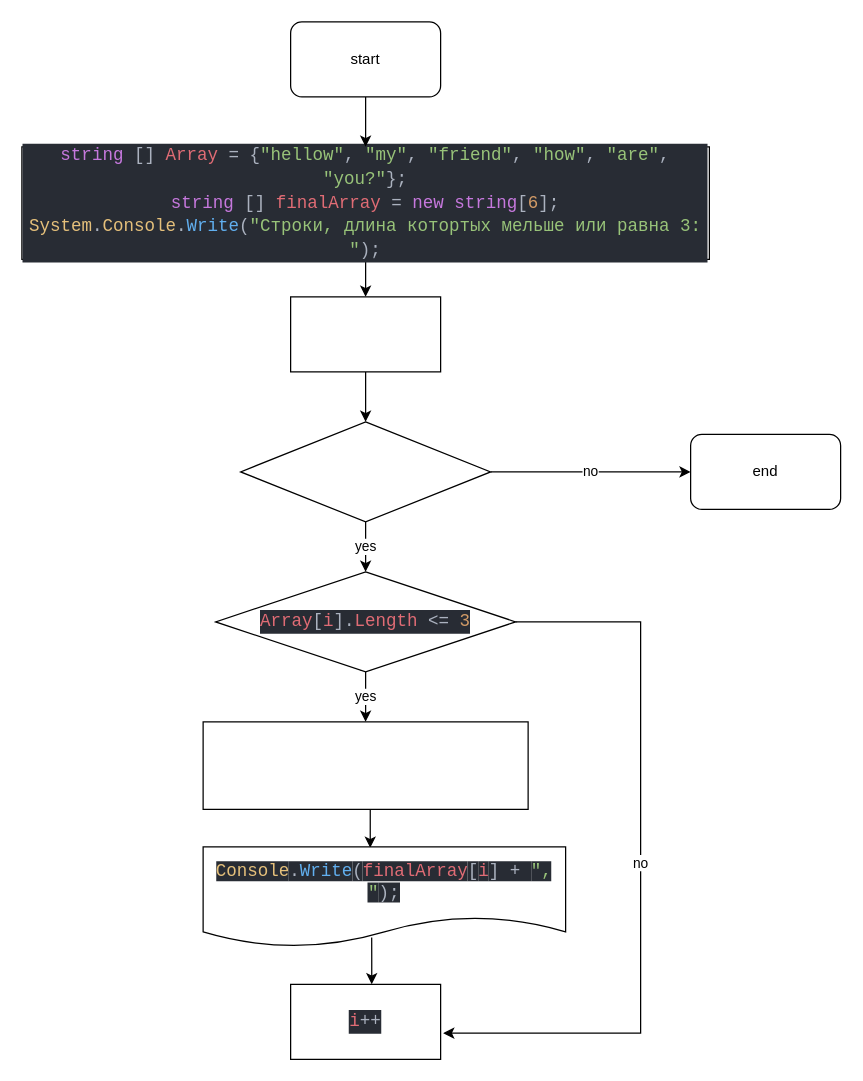
This 863x1081 diagram has some shape labels left out. The shapes that lost their labels are listed below. From the top down, each one's box as (x1, y1, x2, y2) in pixels, then its label:
(289, 296, 441, 372): int i = 0 ;
(239, 421, 491, 522): i < Array . Length
(202, 721, 528, 809): finalArray [ i ] = Array [ i ];
